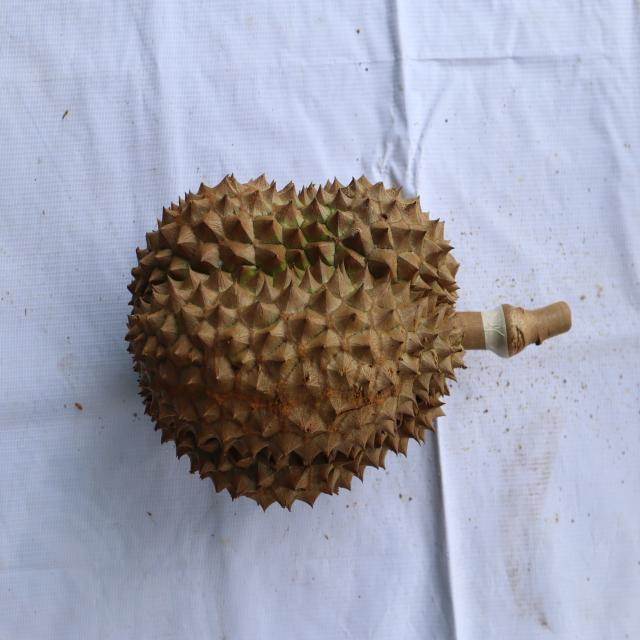mature: (125, 167, 468, 515)
